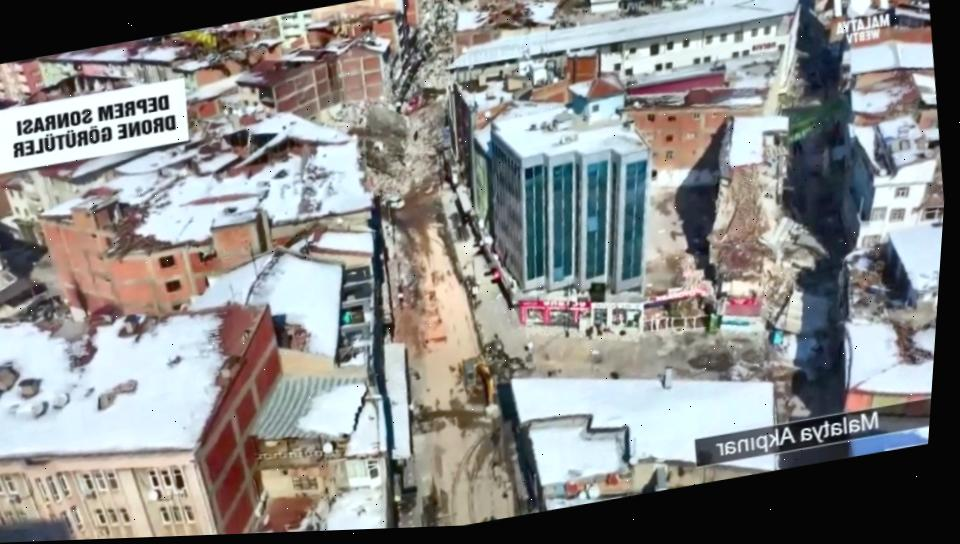kapali: (386, 0, 457, 228)
